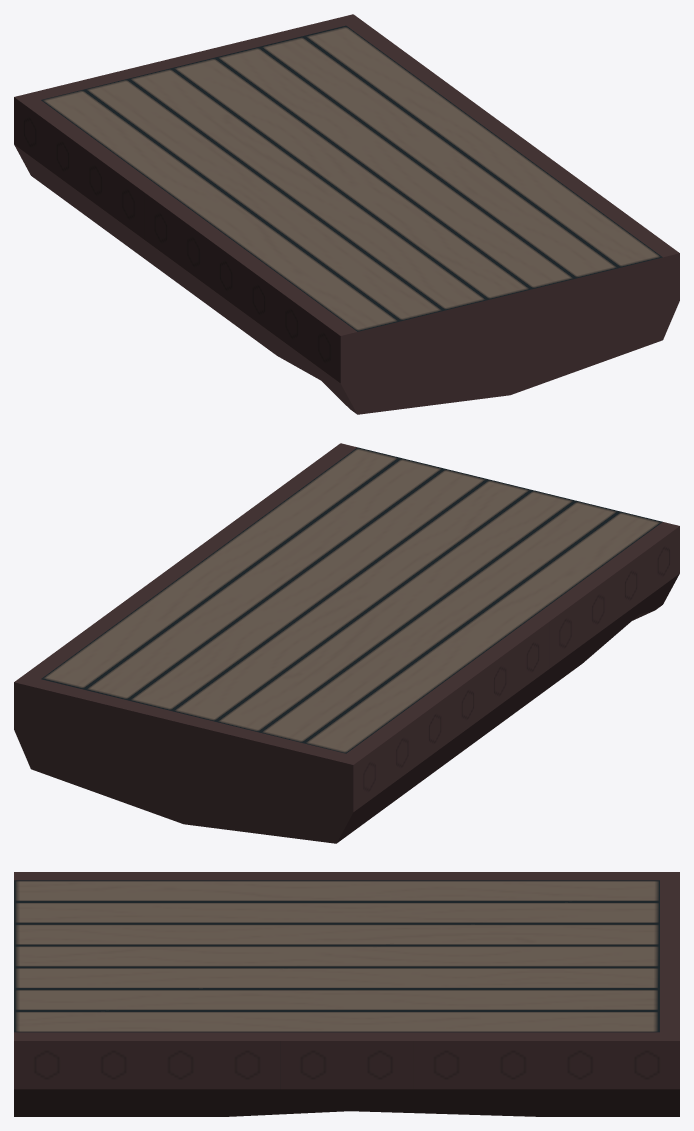
Rendered from SW_ENV_EL_Station_Mezzanine_Walkway_End.fbx.
3 views of the same model, one above another, from view 1: azimuth 30°, elevation 25°; view 2: azimuth 150°, elevation 25°; view 3: azimuth 270°, elevation 25° (orthographic).
Parts seen in each view (by area): view 1: SW_ENV_EL_Station_Mezzanine_Walkway_End; view 2: SW_ENV_EL_Station_Mezzanine_Walkway_End; view 3: SW_ENV_EL_Station_Mezzanine_Walkway_End.
Part boxes in pixels (box(x1,y1,x2,y2)): SW_ENV_EL_Station_Mezzanine_Walkway_End: box(14, 14, 679, 414); SW_ENV_EL_Station_Mezzanine_Walkway_End: box(14, 443, 679, 843); SW_ENV_EL_Station_Mezzanine_Walkway_End: box(14, 872, 679, 1116).
Bounding box in the file's own units: 300 × 85 × 500.
